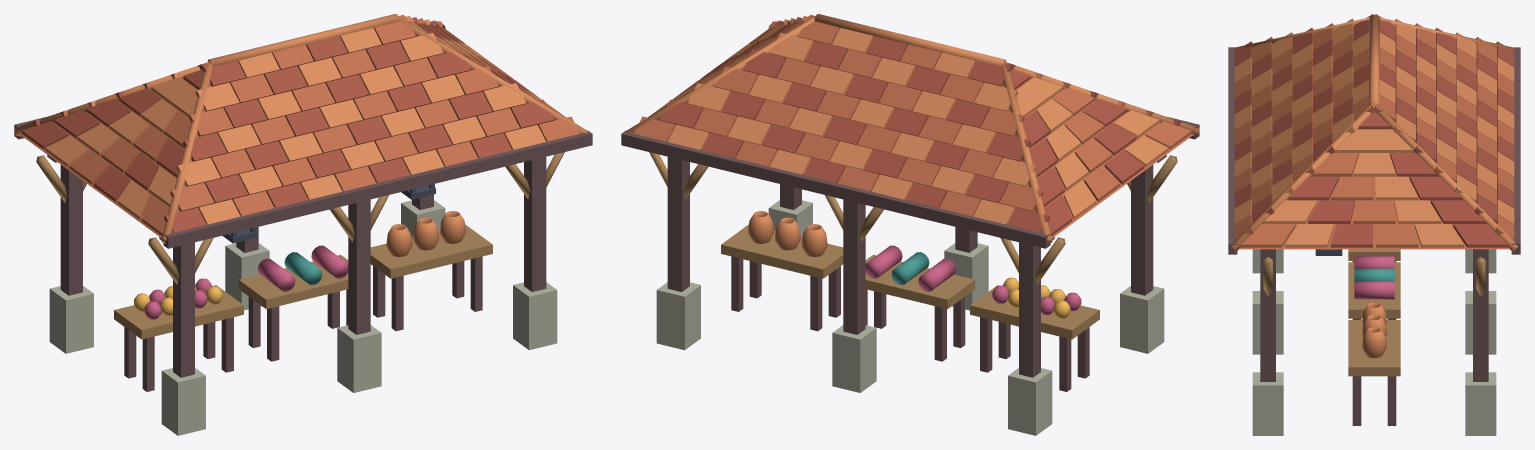
File: market_hall.glb
3 renders of one model, left to right at view 1: azimuth 30°, elevation 25°; view 2: azimuth 150°, elevation 25°; view 3: azimuth 270°, elevation 25°, orthographic. The views are drawn at different scales.
Visible parts, largest first — view 1: Market_hall_eave_fascia, Market_hall_timber_post.004, Market_hall_timber_post.002, Market_pottery_tabletop, Market_hall_timber_post, Market_hall_timber_post.001, Market_hall_stone_post.002, Market_hall_stone_post, Market_hall_stone_post.001, Market_hall_stone_post.004, Market_cloth_tabletop, Market_fruit_tabletop (+103 smaller); view 2: Market_hall_eave_fascia.001, Market_hall_timber_post.005, Market_hall_timber_post.003, Market_pottery_tabletop, Market_hall_timber_post.001, Market_hall_timber_post, Market_hall_stone_post.003, Market_hall_stone_post.001, Market_hall_stone_post, Market_hall_stone_post.005, Market_cloth_tabletop, Market_fruit_tabletop (+103 smaller); view 3: Market_pottery_tabletop, Market_hall_stone_post.004, Market_hall_stone_post.005, Market_hall_timber_post.004, Market_hall_timber_post.005, Market_hall_hipped_roof, Market_hall_eave_fascia, Market_hall_eave_fascia.001, Market_hall_hip_end_slate.018, Market_cloth_tabletop, Market_hall_hip_ridge, Market_hall_hip_ridge.002 (+151 smaller).
Boxes of the visible parts, x1=… form: Market_hall_eave_fascia: x1=163, y1=130, x2=592, y2=248; Market_hall_timber_post.004: x1=524, y1=156, x2=546, y2=291; Market_hall_timber_post.002: x1=348, y1=199, x2=370, y2=334; Market_pottery_tabletop: x1=370, y1=224, x2=492, y2=278; Market_hall_timber_post: x1=173, y1=242, x2=194, y2=377; Market_hall_timber_post.001: x1=60, y1=165, x2=82, y2=295; Market_hall_stone_post.002: x1=337, y1=325, x2=381, y2=392; Market_hall_stone_post: x1=161, y1=368, x2=205, y2=435; Market_hall_stone_post.001: x1=49, y1=286, x2=93, y2=353; Market_hall_stone_post.004: x1=513, y1=282, x2=557, y2=350; Market_cloth_tabletop: x1=238, y1=254, x2=348, y2=309; Market_fruit_tabletop: x1=114, y1=285, x2=243, y2=339; Market_hall_eave_fascia.001: x1=621, y1=130, x2=1050, y2=248; Market_hall_timber_post.005: x1=667, y1=156, x2=689, y2=291; Market_hall_timber_post.003: x1=843, y1=199, x2=865, y2=334; Market_pottery_tabletop: x1=721, y1=224, x2=843, y2=278; Market_hall_timber_post.001: x1=1019, y1=242, x2=1040, y2=377; Market_hall_timber_post: x1=1131, y1=165, x2=1153, y2=295; Market_hall_stone_post.003: x1=832, y1=325, x2=876, y2=392; Market_hall_stone_post.001: x1=1008, y1=368, x2=1052, y2=435; Market_hall_stone_post: x1=1120, y1=286, x2=1164, y2=353; Market_hall_stone_post.005: x1=656, y1=282, x2=700, y2=350; Market_cloth_tabletop: x1=865, y1=254, x2=975, y2=309; Market_fruit_tabletop: x1=970, y1=285, x2=1099, y2=339; Market_pottery_tabletop: x1=1348, y1=320, x2=1400, y2=376; Market_hall_stone_post.004: x1=1252, y1=372, x2=1283, y2=435; Market_hall_stone_post.005: x1=1465, y1=372, x2=1496, y2=435; Market_hall_timber_post.004: x1=1260, y1=259, x2=1275, y2=381; Market_hall_timber_post.005: x1=1473, y1=259, x2=1488, y2=381; Market_hall_hipped_roof: x1=1239, y1=153, x2=1509, y2=249; Market_hall_eave_fascia: x1=1228, y1=47, x2=1237, y2=254; Market_hall_eave_fascia.001: x1=1511, y1=47, x2=1520, y2=254; Market_hall_hip_end_slate.018: x1=1334, y1=129, x2=1414, y2=152; Market_cloth_tabletop: x1=1348, y1=262, x2=1400, y2=318; Market_hall_hip_ridge: x1=1230, y1=104, x2=1375, y2=252; Market_hall_hip_ridge.002: x1=1373, y1=104, x2=1518, y2=252.
Bounding box in the file's own units: 6.75 × 4.58 × 4.18.
